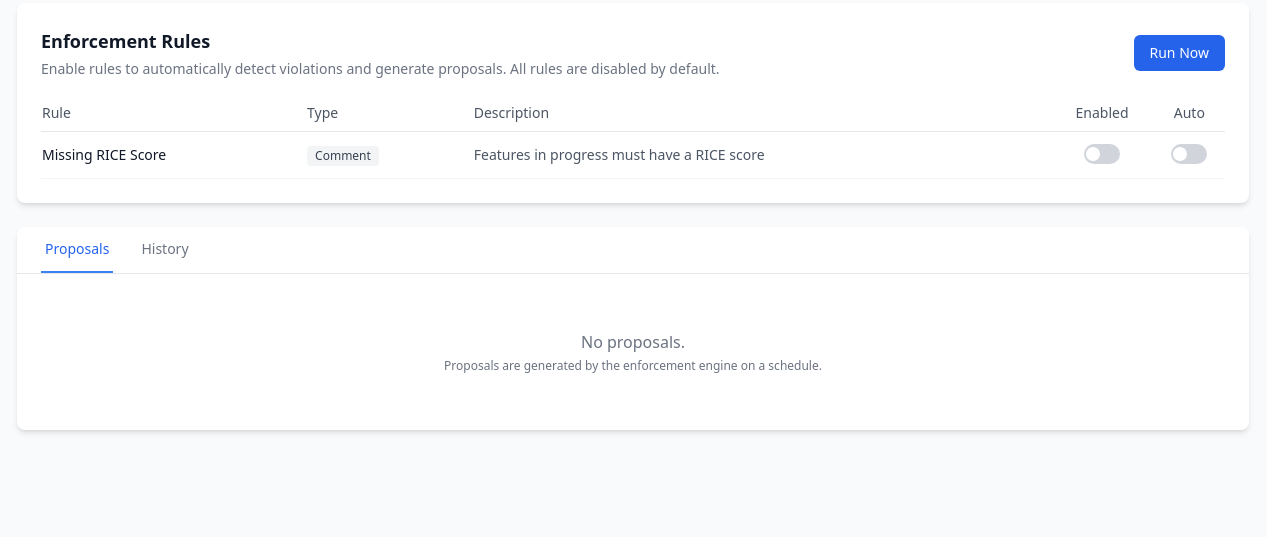
Test: HygieneEnforcementView — Proposal Status › History tab shows proposal outcomes › shows status for proposals in history run details
Click the button "History".
click(165, 250)  # box [137,227,192,273]
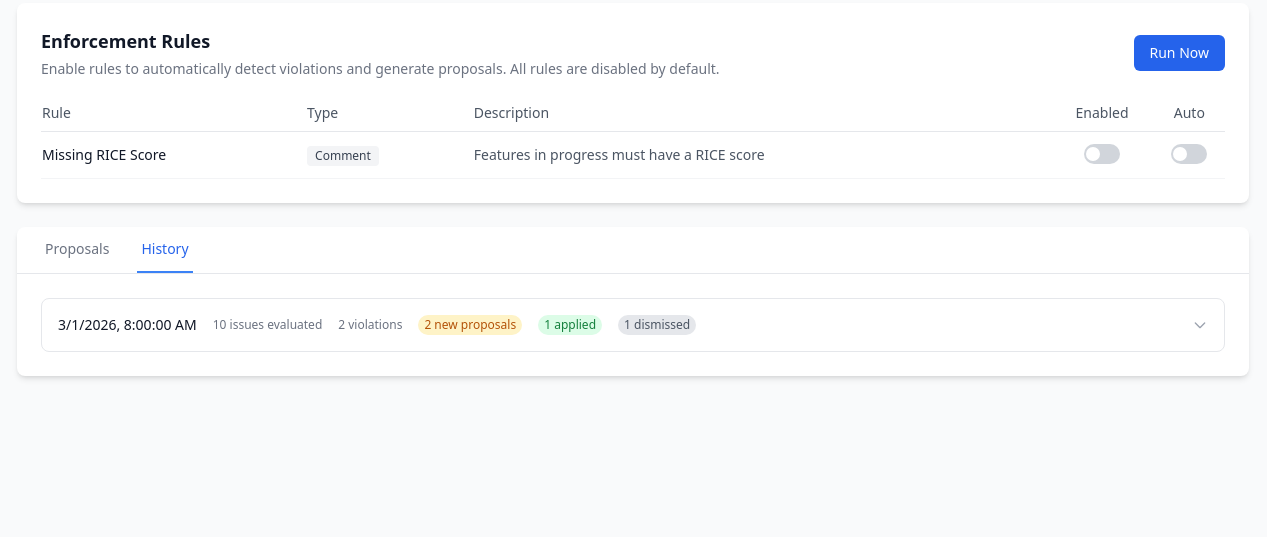
Check: the text "10 issues evaluated" is shown, box [213,317,322,333]
Note: Expand the run
Click the button with test id "history-run-toggle-0".
click(633, 325)  # box [42,299,1224,351]
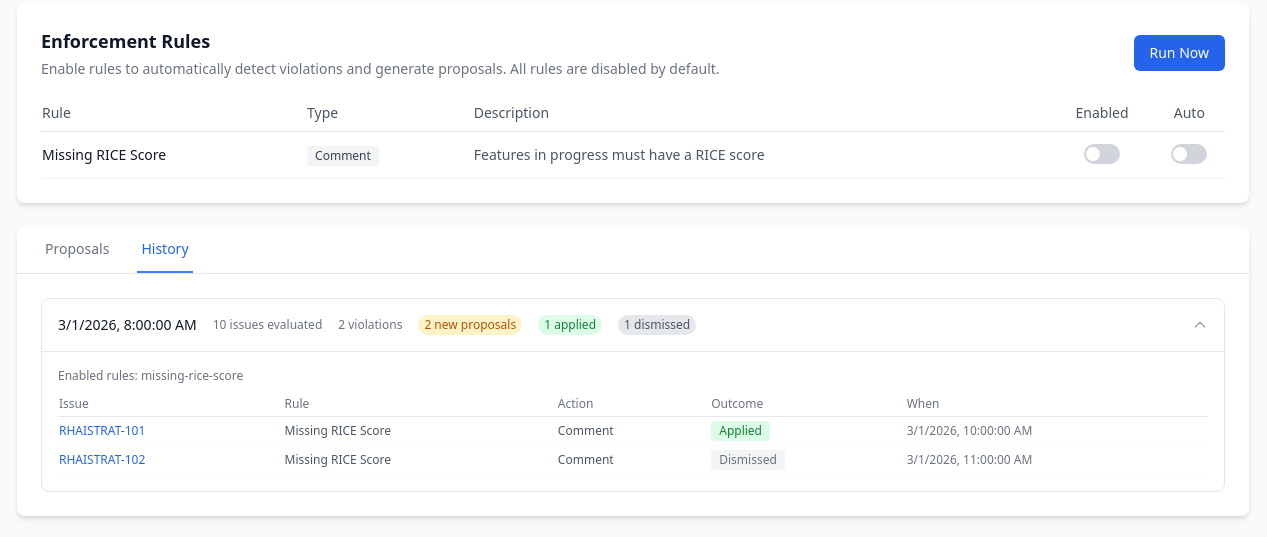
Check: the text with test id "history-proposal-status" shows "applied", box [544,316,596,333]
Check: the text with test id "history-proposal-status" shows "dismissed", box [624,316,690,333]
Check: the text "RHAISTRAT-101" is shown, box [59,422,145,439]
